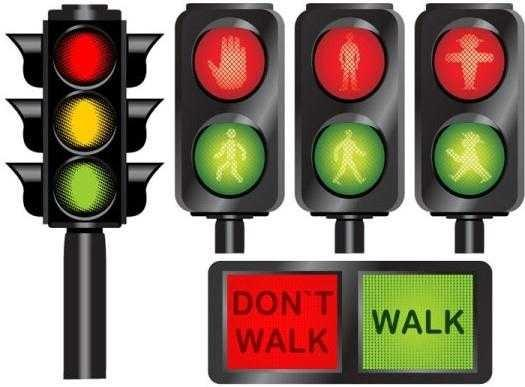green: (310, 113, 390, 206), (189, 110, 269, 201), (430, 109, 507, 201), (56, 159, 117, 222)
red: (430, 15, 507, 105), (316, 20, 389, 107), (197, 18, 268, 107), (54, 21, 119, 91)
